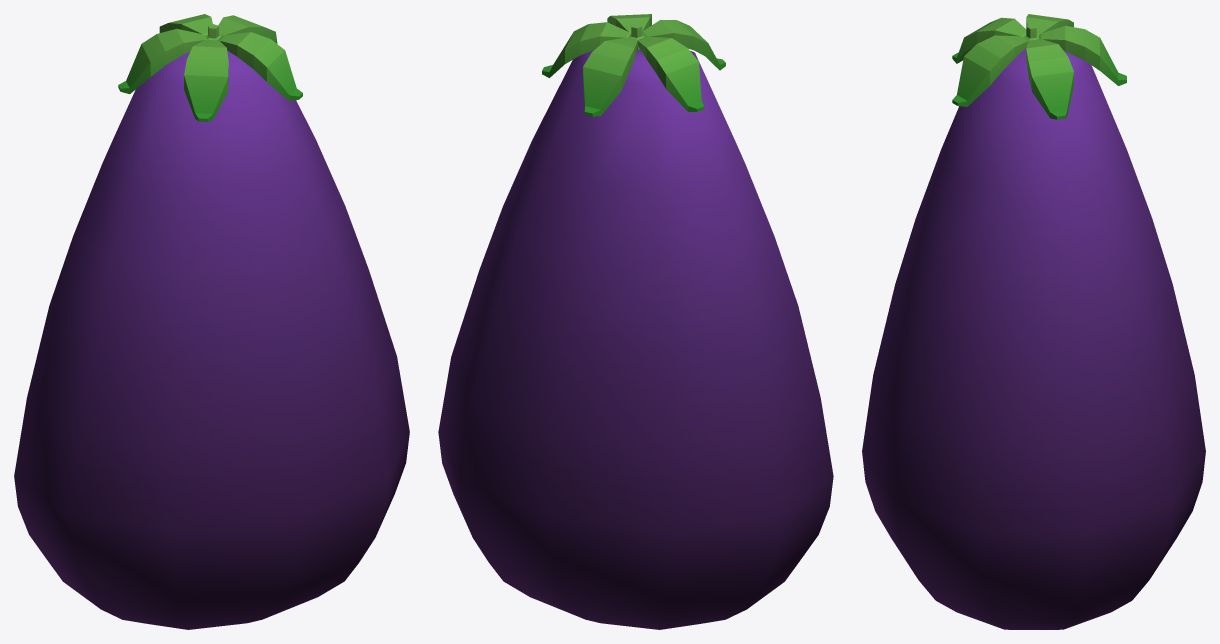
File: aubergine.fbx
The picture shows the model from 3 angles, left to right: view 1: azimuth 30°, elevation 25°; view 2: azimuth 150°, elevation 25°; view 3: azimuth 270°, elevation 25°; orthographic projection.
Visible parts, largest first — view 1: aubergine; view 2: aubergine; view 3: aubergine.
Boxes of the visible parts, x1=… form: aubergine: x1=14, y1=14, x2=409, y2=629; aubergine: x1=438, y1=14, x2=833, y2=629; aubergine: x1=862, y1=14, x2=1205, y2=629.
Size of the model in its own units: 56.79 by 92.88 by 49.94.
